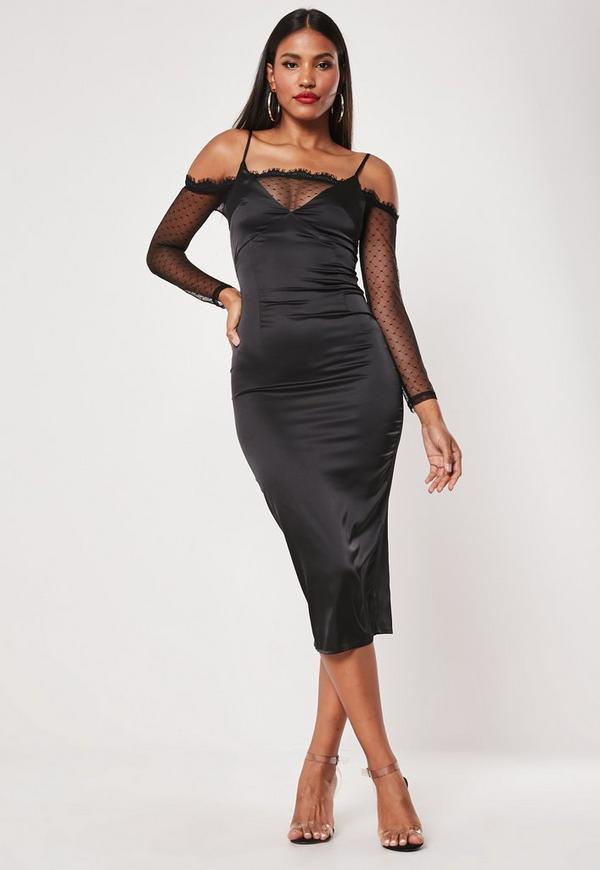S_dress: (171, 133, 424, 647)
